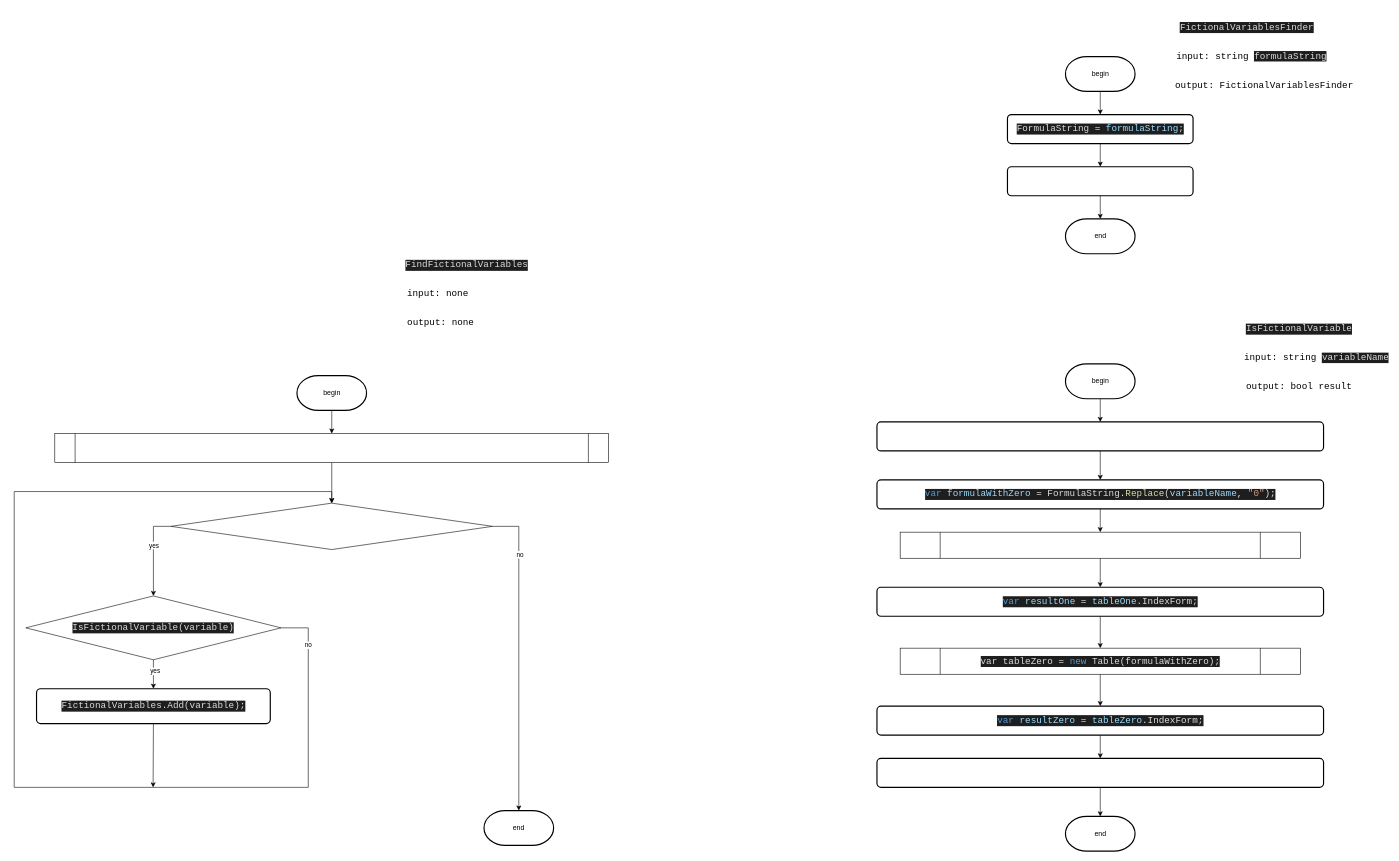
This 1399x861 diagram has some shape labels left out. The shapes that lost their labels are listed below. From the top down, each one's centre as x and y in pixels, then its label:
(x=1100, y=181): FictionalVariables = [];
(x=331, y=448): var allVariables = FormulaParser.FindAllPropositionalVariables(FormulaString);
(x=1100, y=436): var formulaWithOne = FormulaString. Replace ( variableName , "1" );
(x=331, y=526): Is there next element "variable" in allVariables?
(x=1100, y=545): var tableOne = new Table(formulaWithOne);
(x=1100, y=772): bool result = resultOne == resultZero ;
